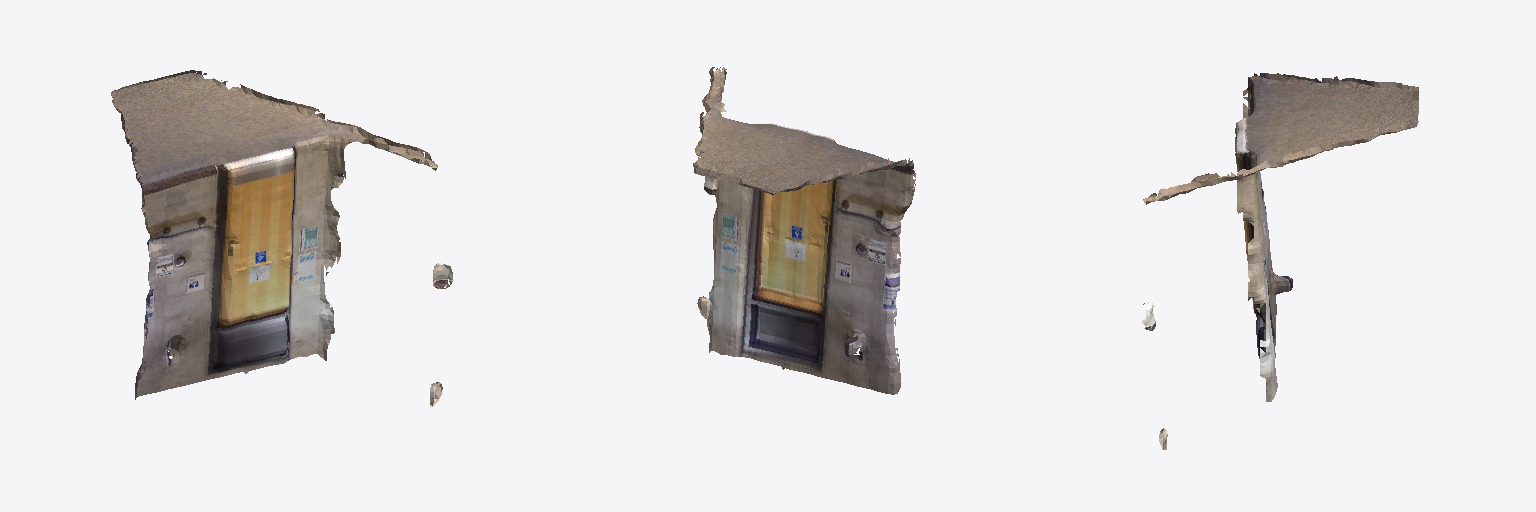
The picture shows the model from 3 angles: view 1: azimuth 30°, elevation 25°; view 2: azimuth 150°, elevation 25°; view 3: azimuth 270°, elevation 25°; orthographic projection.
Bounding box in the file's own units: 3.48 × 3.49 × 3.22.
Materials: 1 (1 with a texture image).